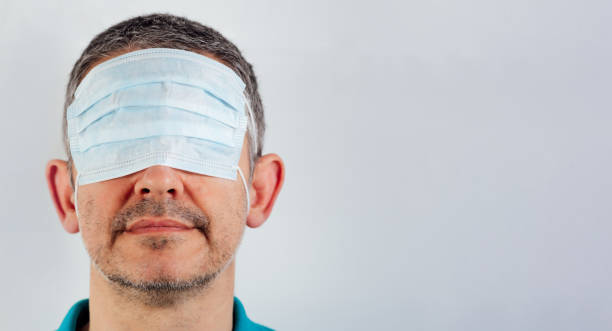mask_weared_incorrect: (65, 63, 247, 296)
